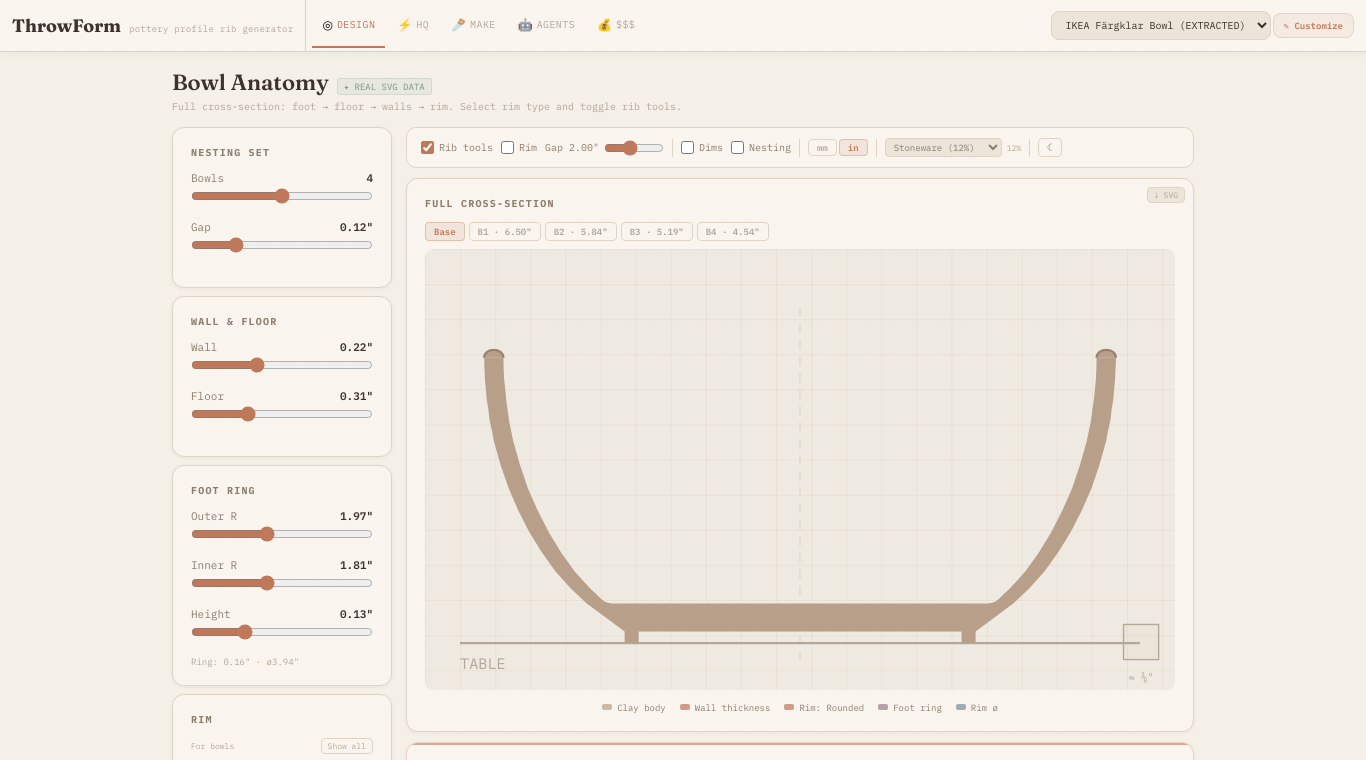
Test: Profile switching › does not crash when switching to each profile
Click the button "✎ Customize" at (1313, 26), box [1273,13,1354,38]
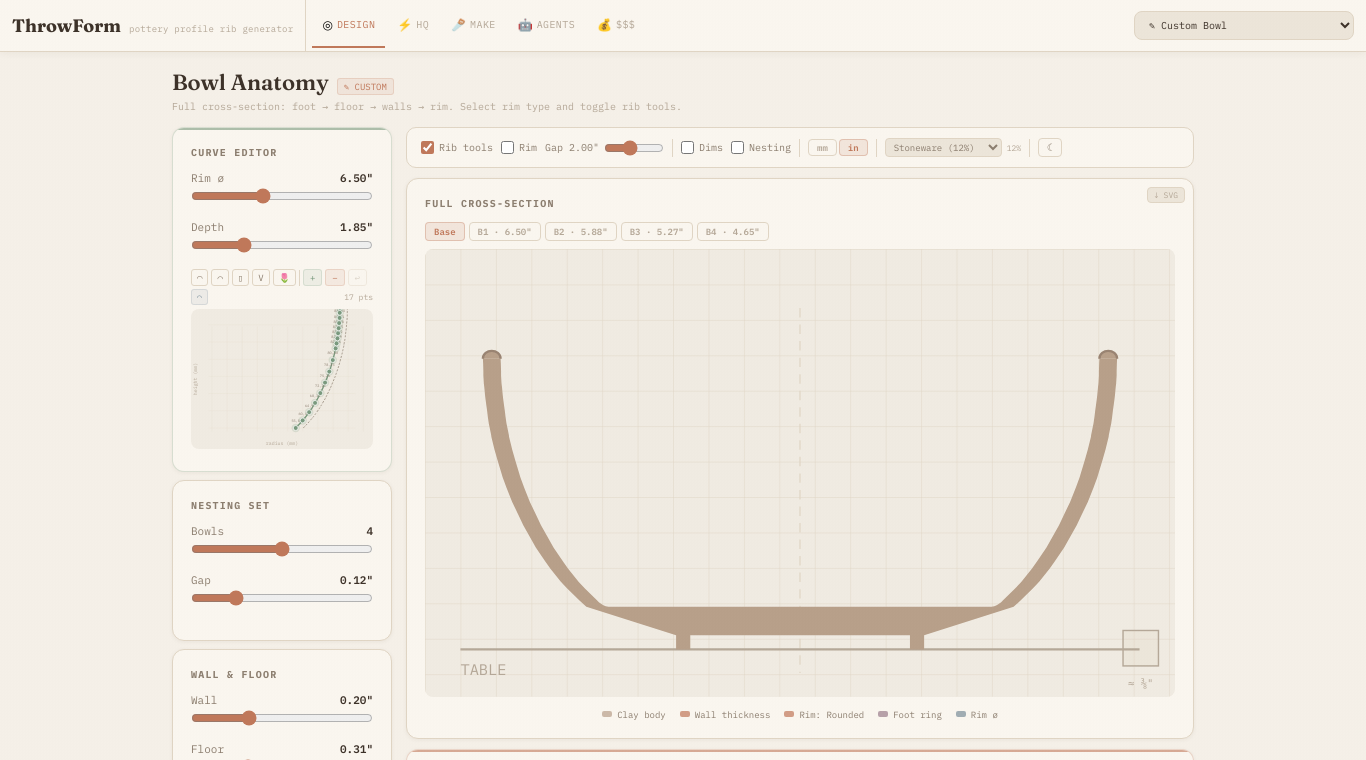
Result: the icon that starts with "radius (mm)" is shown at [191,309,373,449]
